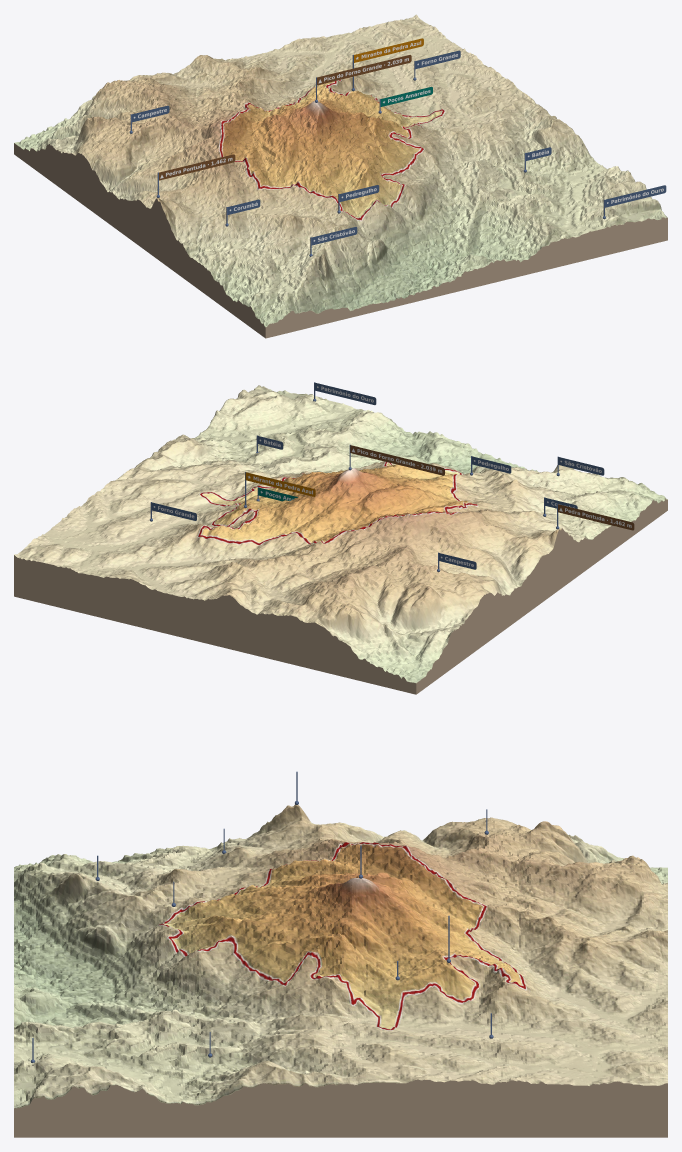
The model's file is forno-grande.glb.
3 renders of one model, top to bottom at view 1: azimuth 30°, elevation 25°; view 2: azimuth 150°, elevation 25°; view 3: azimuth 270°, elevation 25°, orthographic. The views are drawn at different scales.
Visible parts, largest first — view 1: relevo, base, bandeiras, hastes; view 2: relevo, base, bandeiras; view 3: relevo, base, hastes.
Part boxes in pixels (x1=…): relevo: x1=14, y1=14, x2=667, y2=327; base: x1=14, y1=143, x2=667, y2=338; bandeiras: x1=132, y1=38, x2=666, y2=245; hastes: x1=129, y1=55, x2=605, y2=256; relevo: x1=14, y1=385, x2=667, y2=683; base: x1=14, y1=498, x2=667, y2=694; bandeiras: x1=151, y1=382, x2=634, y2=569; relevo: x1=14, y1=804, x2=667, y2=1108; base: x1=14, y1=1079, x2=667, y2=1137; hastes: x1=30, y1=771, x2=493, y2=1062.
Size of the model in its own units: 0.7206 by 0.1688 by 0.6501.
4 materials, 2 textured.
